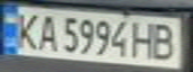4: (109, 18, 133, 57)
5: (57, 14, 81, 54)
9: (75, 16, 96, 55), (93, 17, 112, 56)
A: (33, 11, 60, 52)
B: (148, 20, 184, 61)
H: (127, 19, 160, 60)
K: (9, 9, 42, 51)
